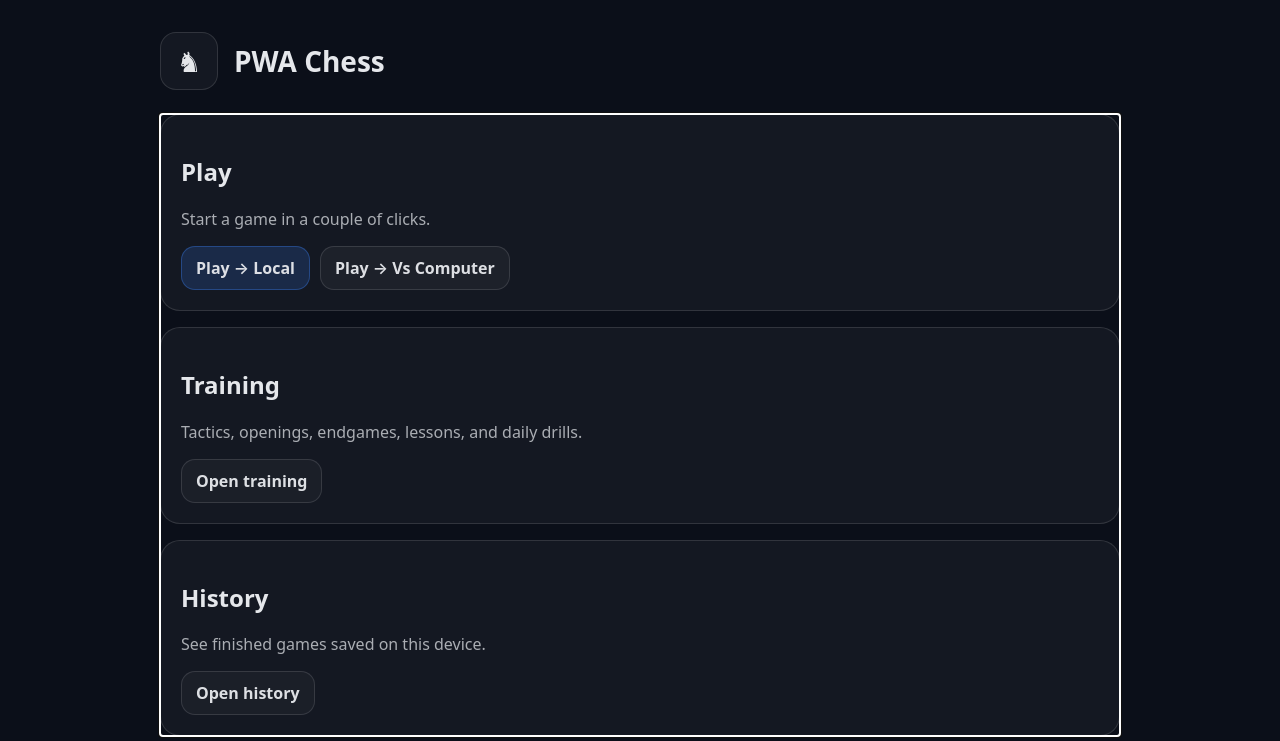
Local game controls (Step 10) › allows offering a draw and shows a result screen
Click the link "Play → Local" at (246, 268), box x1=181 y1=246 x2=310 y2=290
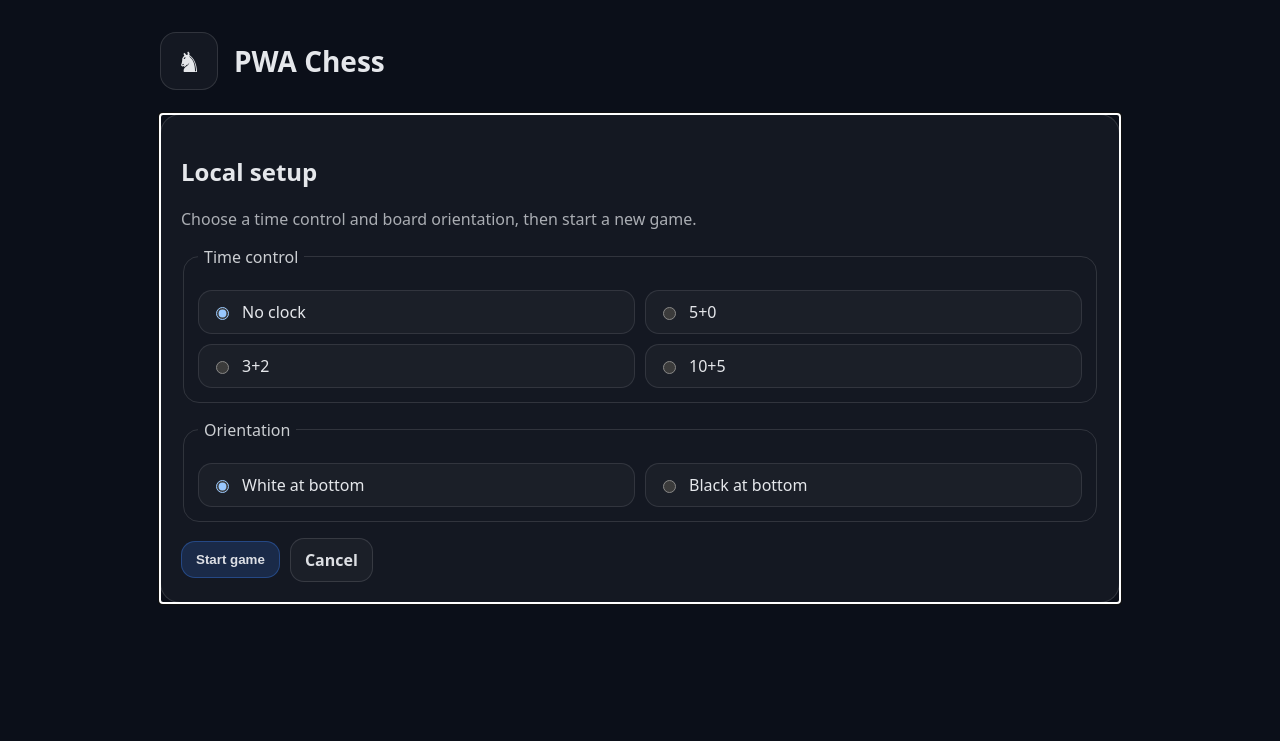
Click the button "Start game" at (230, 560), box x1=181 y1=541 x2=280 y2=578
(page scrolled)
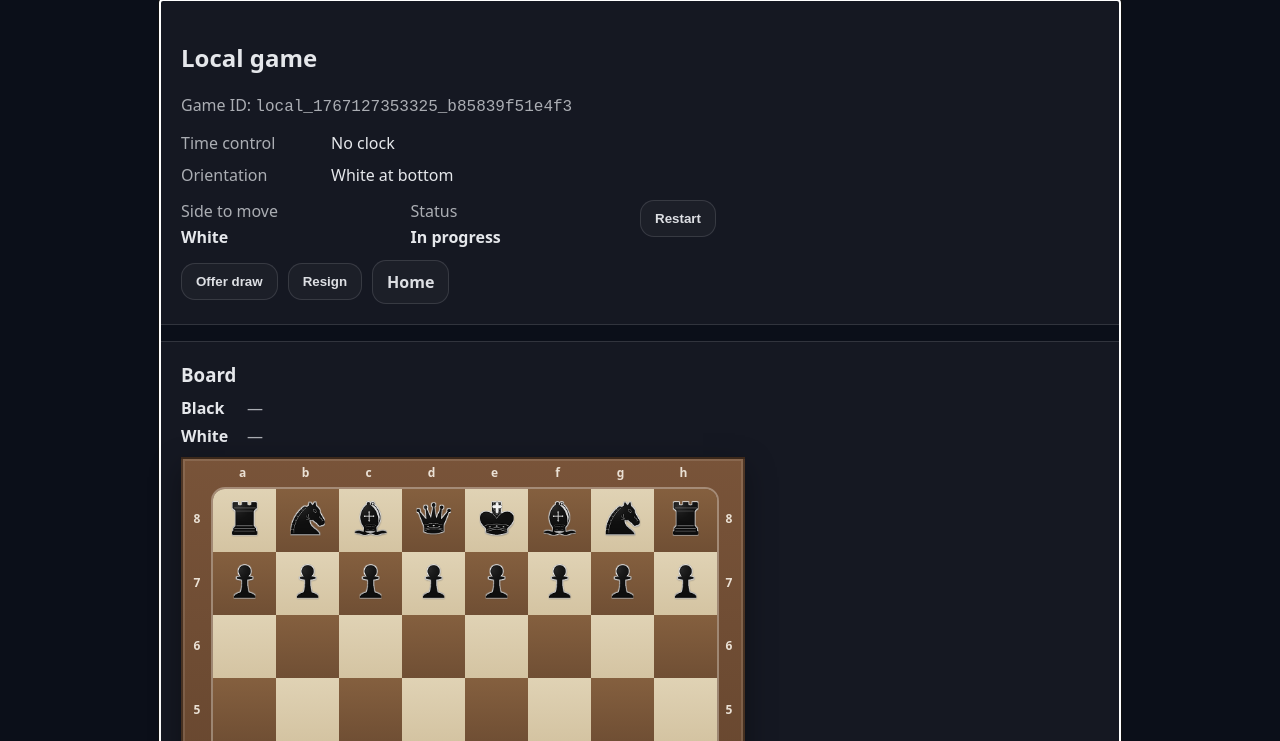
Click the button "Offer draw" at (229, 282), box x1=181 y1=263 x2=278 y2=300
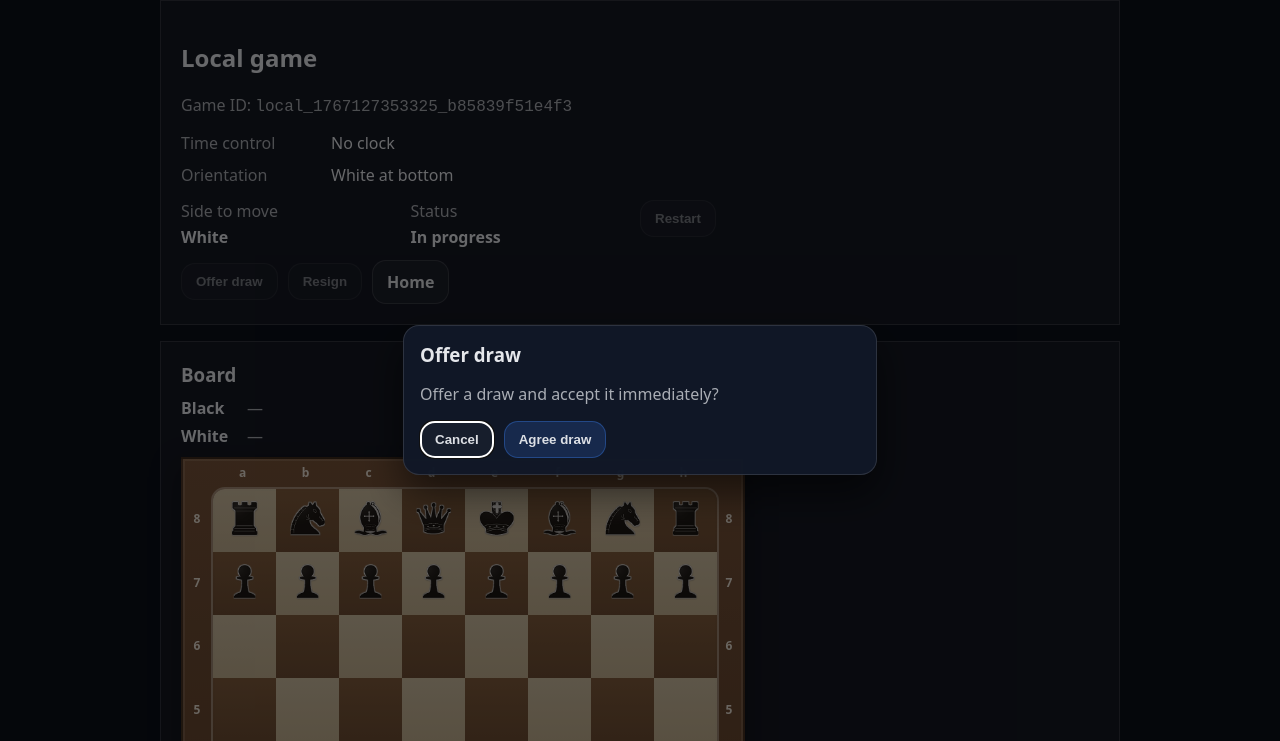
Click the button "Agree draw" at (555, 440), box x1=504 y1=421 x2=606 y2=458
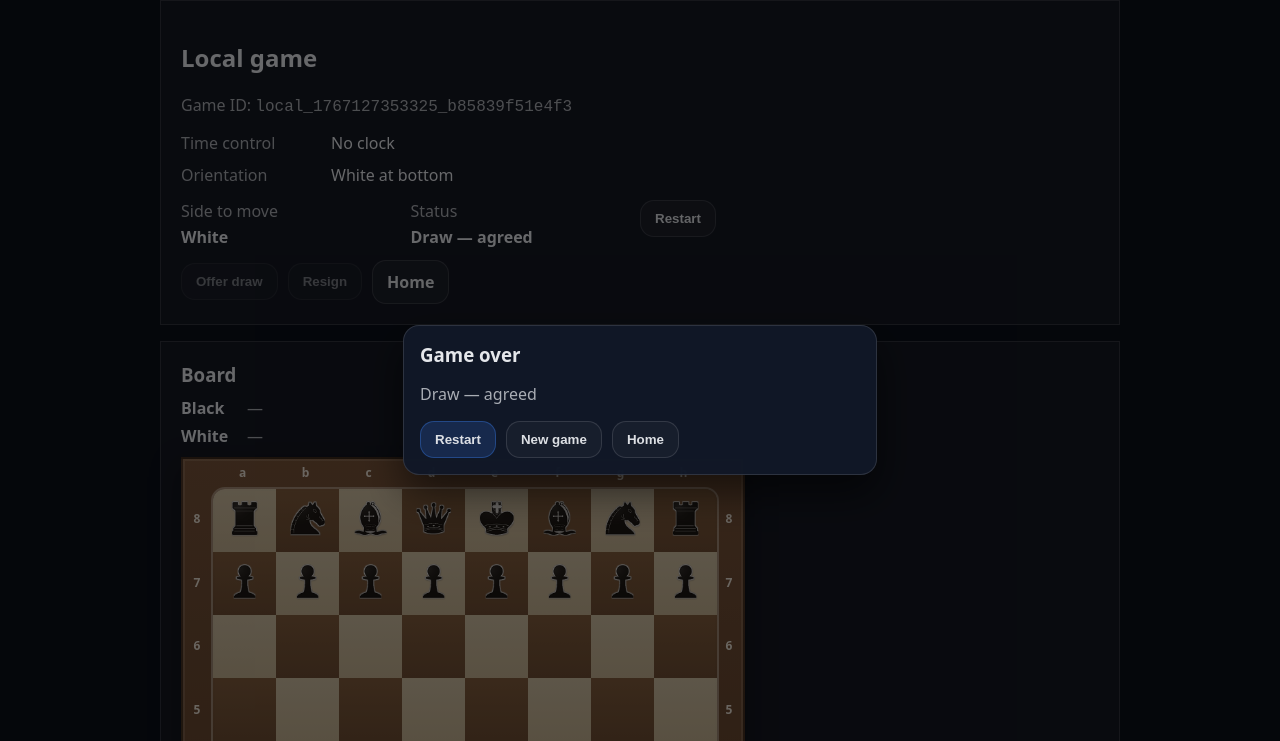
Expected: the text named "result summary" reads "Draw — agreed", x1=420 y1=383 x2=537 y2=405
